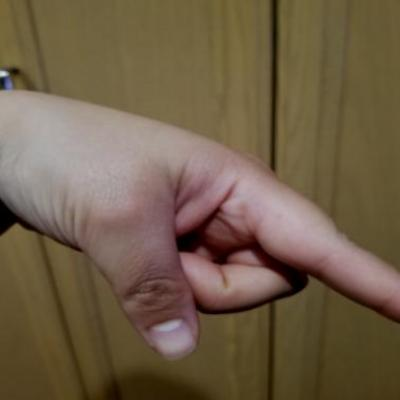hand: (0, 57, 399, 377)
